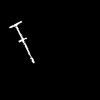double_crochet: (10, 21, 33, 62)
